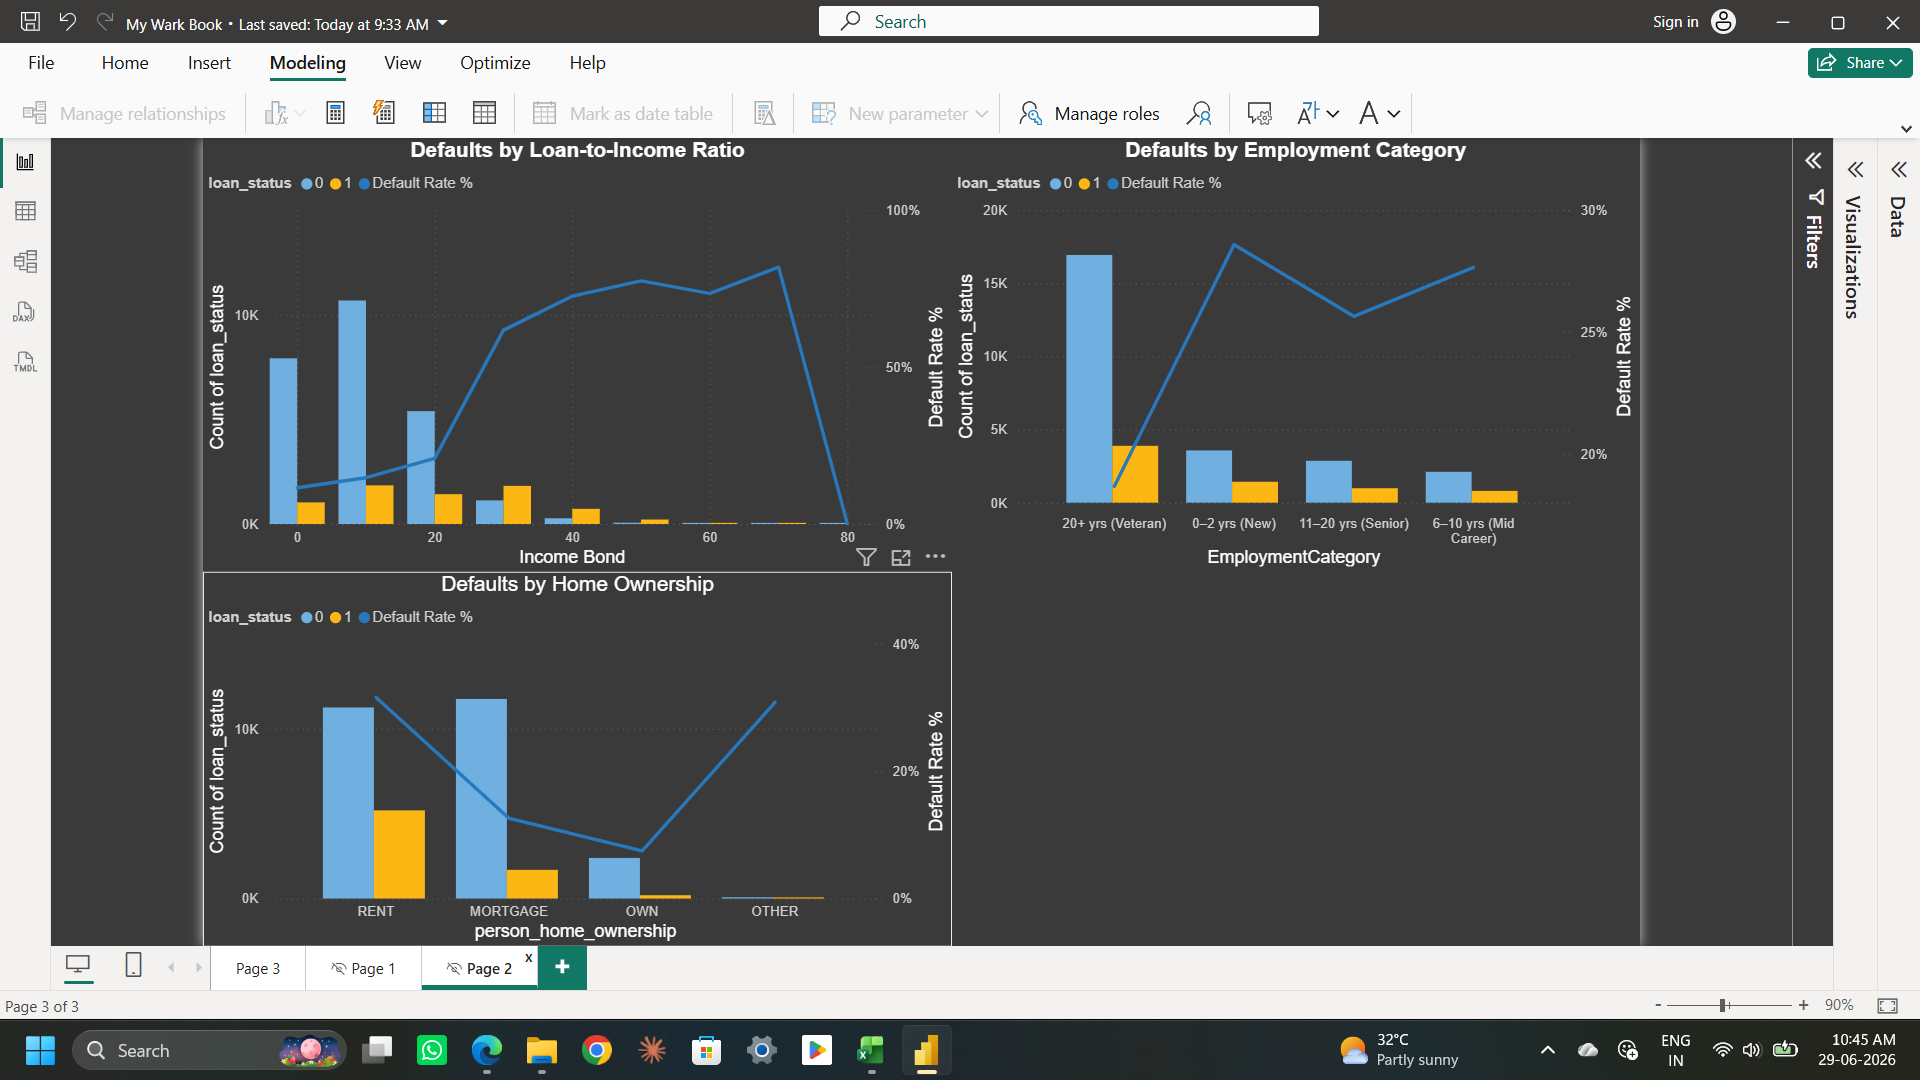

The dashboard page shown, as its layout file describes it:
{"tool":"powerbi","page":{"name":"Page 2","canvas":[1280,720],"ordinal":2},"visuals":[{"type":"lineClusteredColumnComboChart","title":"Defaults by Loan-to-Income Ratio","fields":{"Category":["new_credit_risk_dataset.Income Bond"],"Y":["CountNonNull(new_credit_risk_dataset.loan_status)"],"Series":["new_credit_risk_dataset.loan_status"],"Y2":["new_credit_risk_dataset.Default Rate %"]},"box":[0,0,667.1,386.3],"z":0},{"type":"lineClusteredColumnComboChart","title":"Defaults by Employment Category","fields":{"Category":["new_credit_risk_dataset.EmploymentCategory"],"Y":["CountNonNull(new_credit_risk_dataset.loan_status)"],"Series":["new_credit_risk_dataset.loan_status"],"Y2":["new_credit_risk_dataset.Default Rate %"]},"box":[667.1,0,612.9,386.3],"z":1000},{"type":"lineClusteredColumnComboChart","title":"Defaults by Home Ownership","fields":{"Category":["new_credit_risk_dataset.person_home_ownership"],"Y":["CountNonNull(new_credit_risk_dataset.loan_status)"],"Series":["new_credit_risk_dataset.loan_status"],"Y2":["new_credit_risk_dataset.Default Rate %"]},"box":[0,386.3,667.1,333.5],"z":2000}]}

Visuals, with their boxes on the page's 1280x720 design canvas (x1, y1, x2, y2). These are canvas units, not pixel positions in the 1920x1080 screenshot, which may show the page scaled, cropped or inside an application window:
"Defaults by Loan-to-Income Ratio" lineClusteredColumnComboChart: <bbox>0, 0, 667, 386</bbox>
"Defaults by Employment Category" lineClusteredColumnComboChart: <bbox>667, 0, 1280, 386</bbox>
"Defaults by Home Ownership" lineClusteredColumnComboChart: <bbox>0, 386, 667, 720</bbox>
